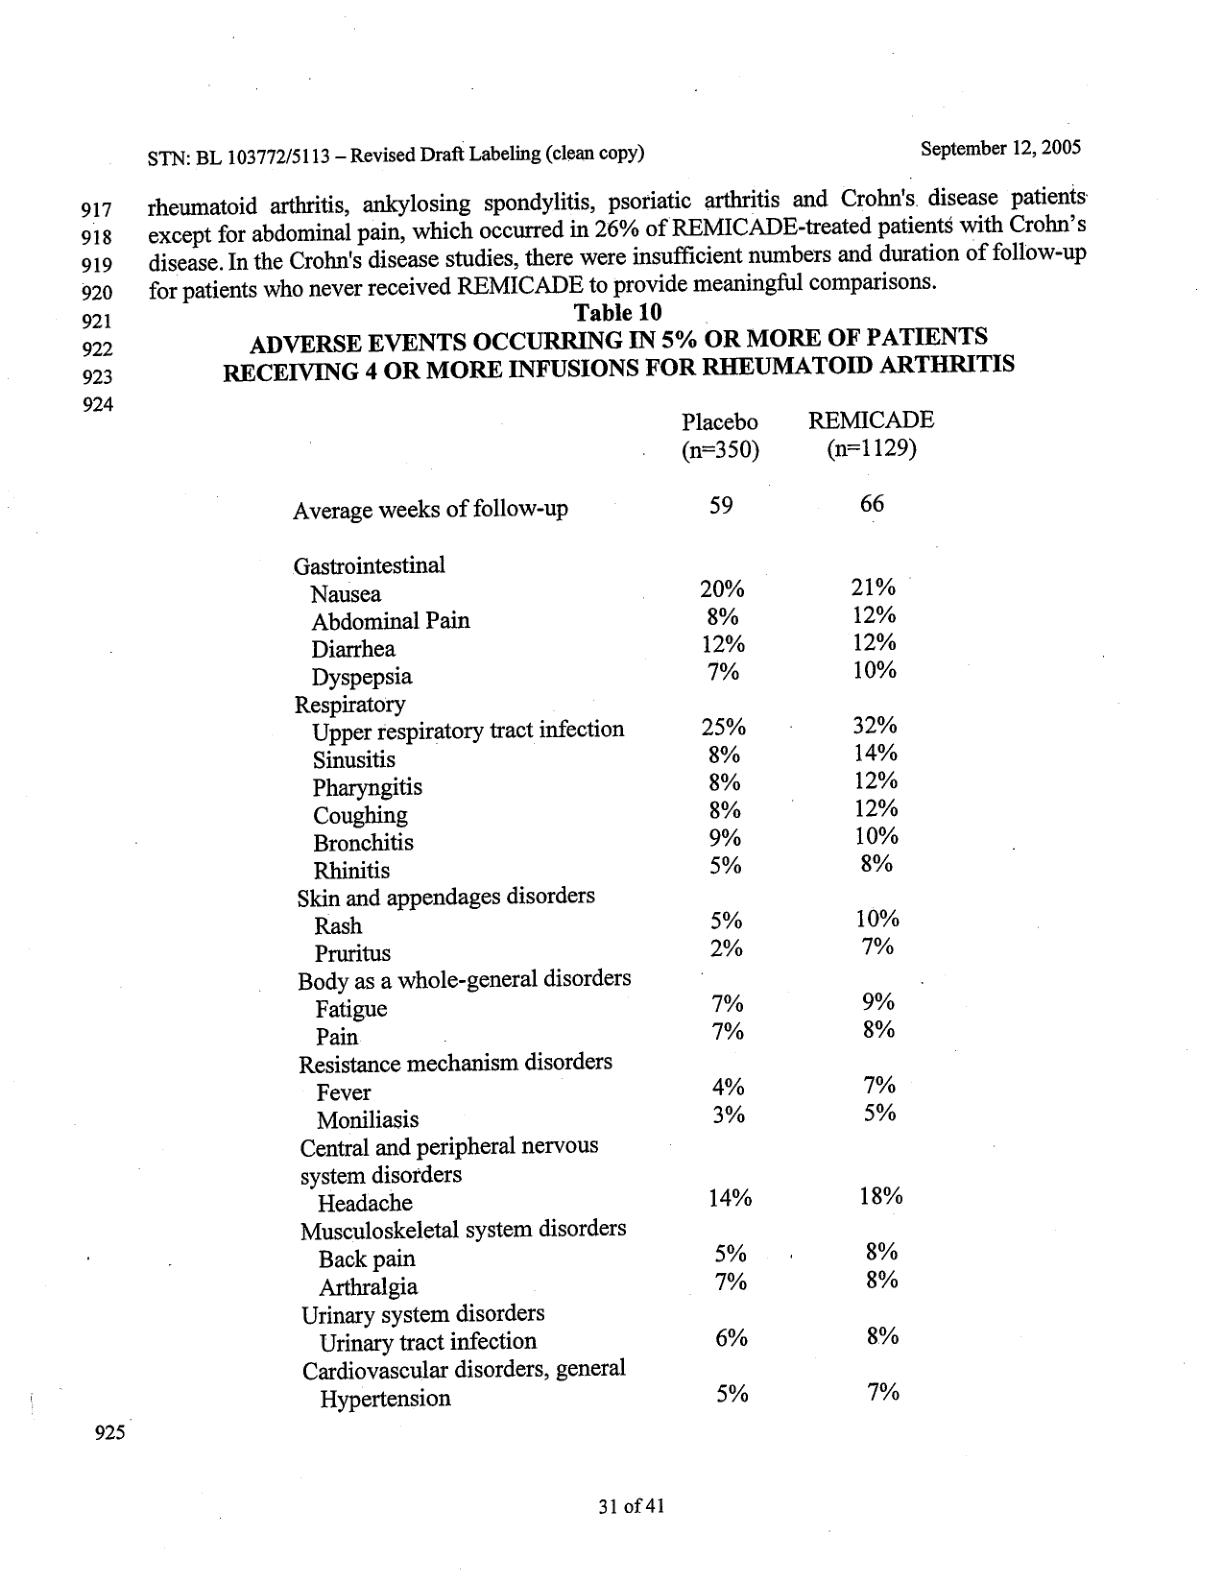nolines: (288, 403, 939, 1415)
